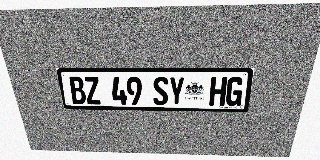4: (110, 77, 128, 105)
9: (126, 77, 143, 105)
B: (68, 77, 87, 104)
G: (225, 77, 245, 106)
H: (209, 77, 228, 106)
S: (153, 77, 168, 105)
Y: (169, 77, 185, 105)
Z: (83, 77, 102, 104)
